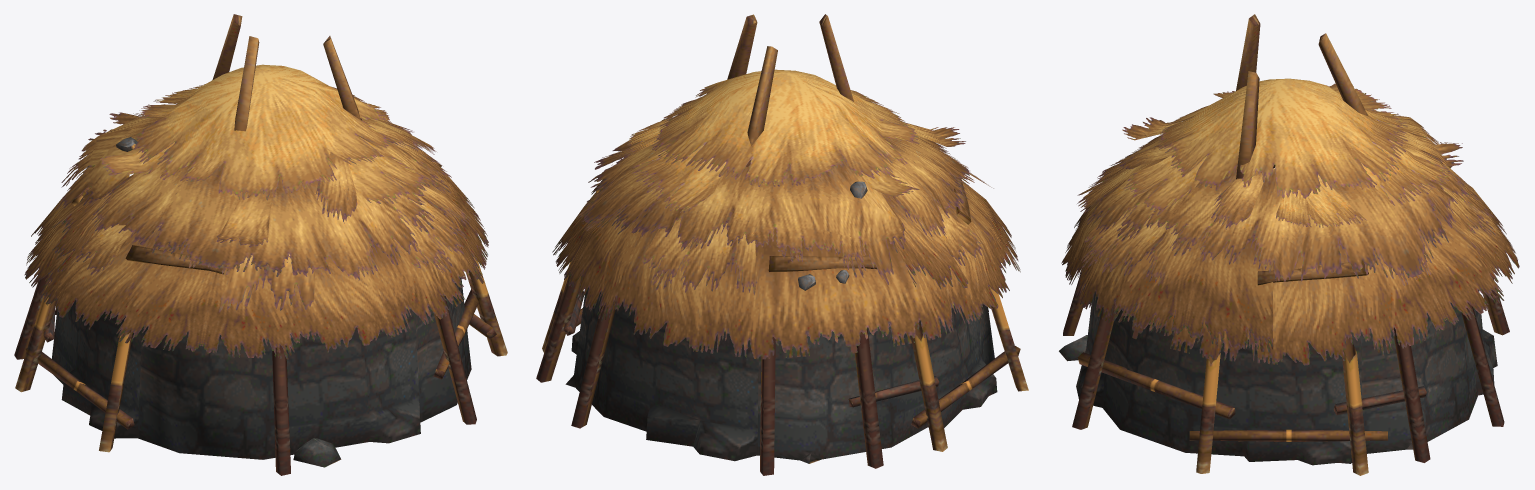
File: 1004_Item_caofang_5.FBX
3 views of the same model, side by side, from view 1: azimuth 30°, elevation 25°; view 2: azimuth 150°, elevation 25°; view 3: azimuth 270°, elevation 25° (orthographic).
Parts seen in each view (by area): view 1: 1004_Item_caofang_5; view 2: 1004_Item_caofang_5; view 3: 1004_Item_caofang_5.
Part boxes in pixels (x1,y1,x2,y2): 1004_Item_caofang_5: (14, 14, 507, 475); 1004_Item_caofang_5: (536, 14, 1028, 475); 1004_Item_caofang_5: (1059, 14, 1519, 475).
Bounding box in the file's own units: 379 × 370 × 307.
